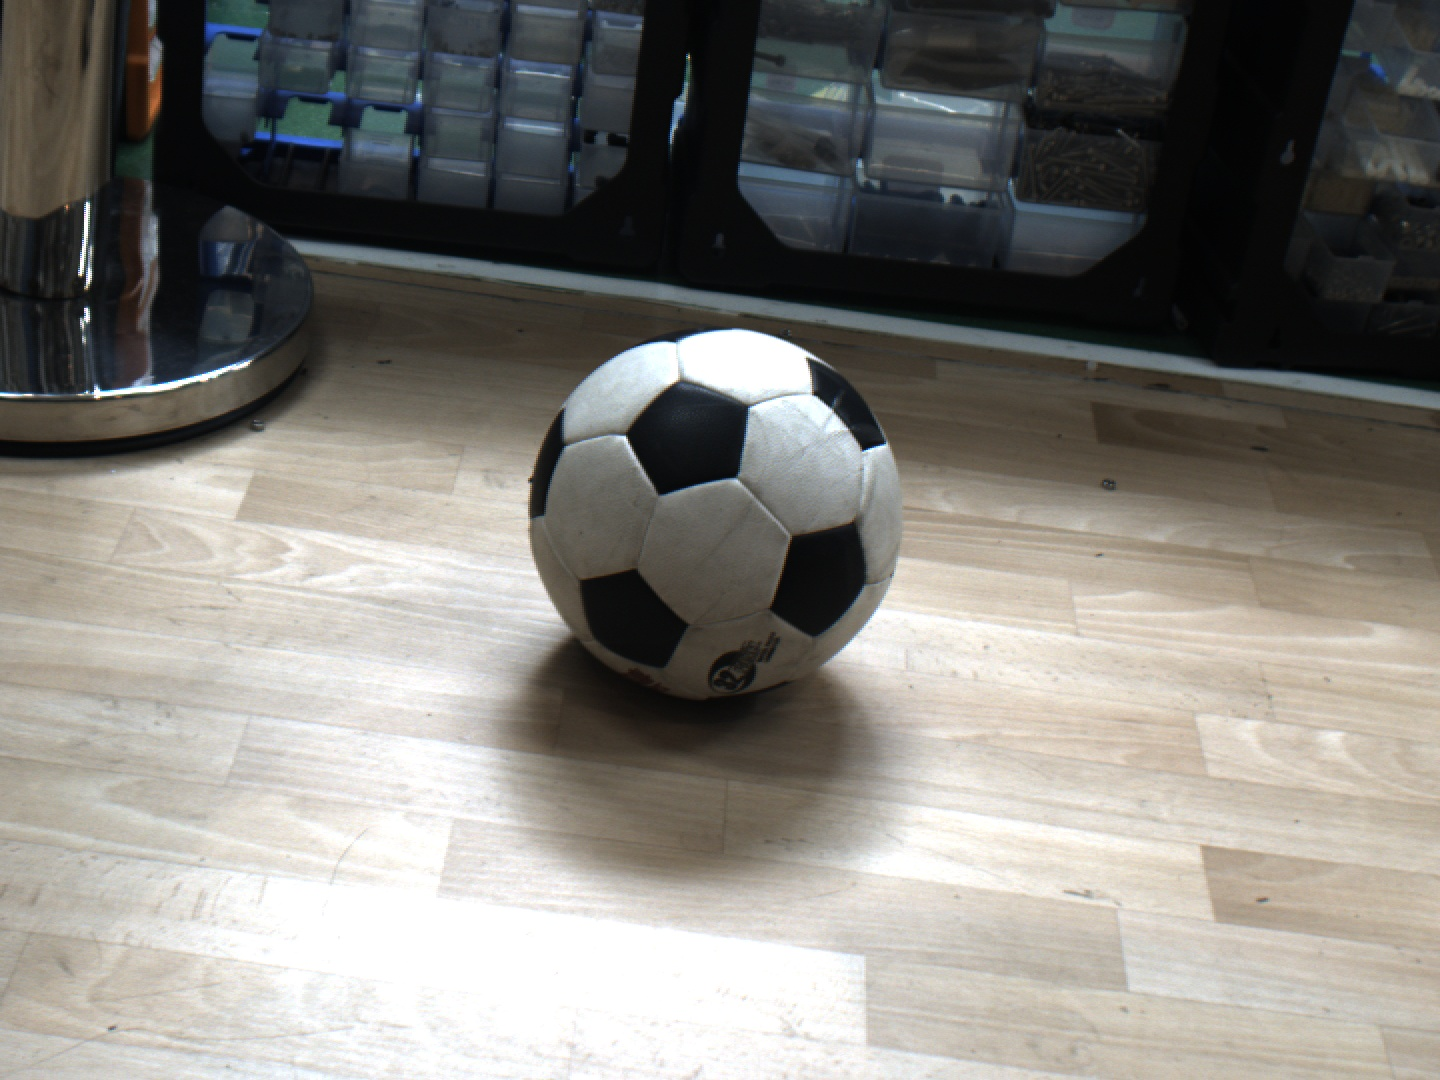ball: (530, 327, 906, 704)
